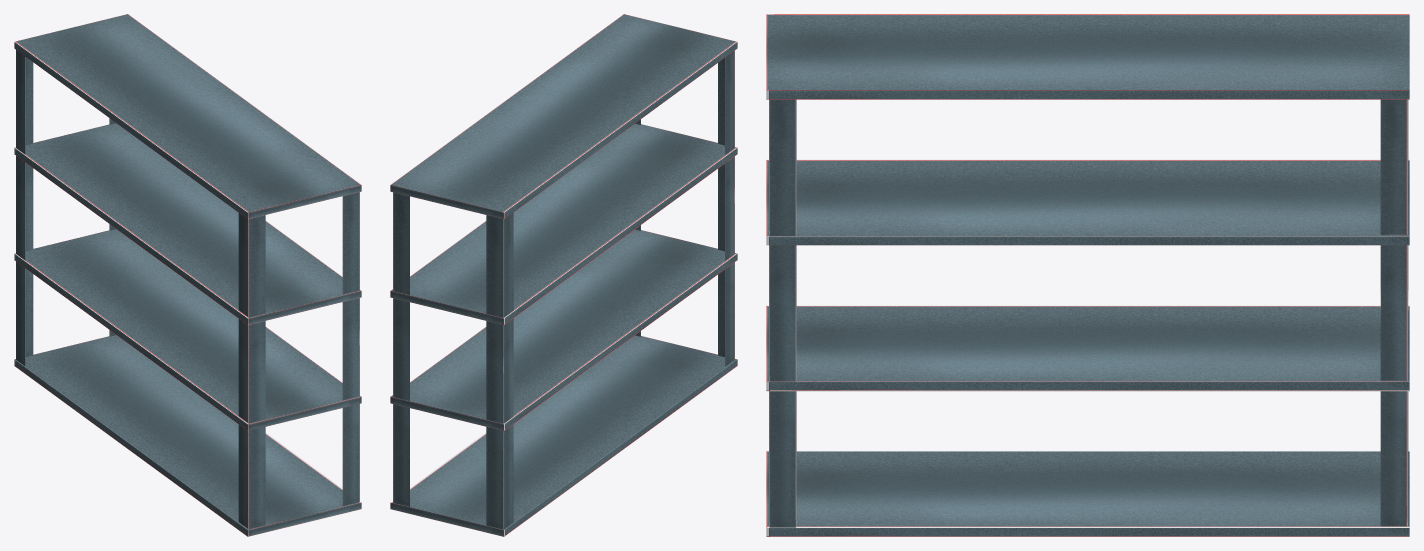
File: tana.fbx
3 views of the same model, side by side, from view 1: azimuth 30°, elevation 25°; view 2: azimuth 150°, elevation 25°; view 3: azimuth 270°, elevation 25° (orthographic). The views are drawn at different scales.
Visible parts, largest first — view 1: Wall001; view 2: Wall001; view 3: Wall001.
Boxes of the visible parts, bbox=[...] form: Wall001: bbox=[14, 14, 361, 536]; Wall001: bbox=[390, 14, 737, 536]; Wall001: bbox=[766, 14, 1409, 536].
Bounding box in the file's own units: 35.43 × 96.46 × 126.
